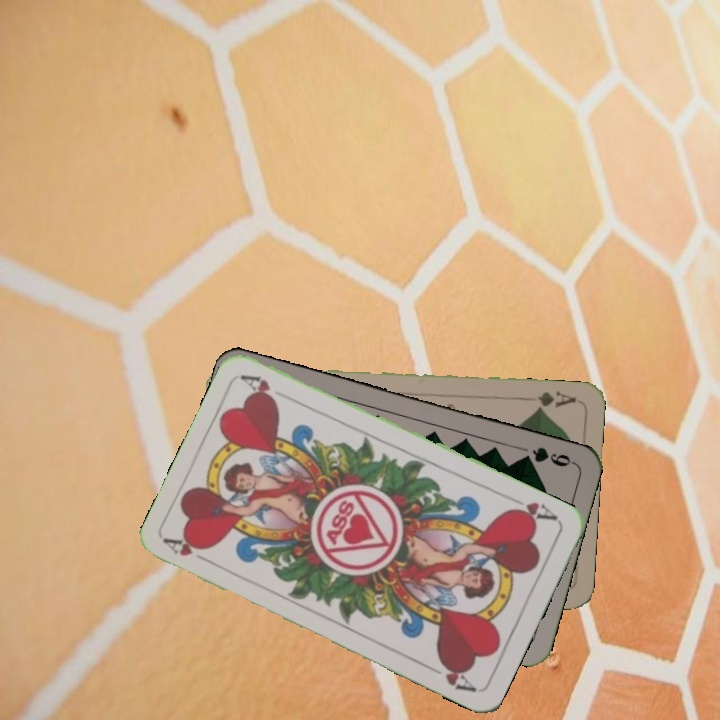G9: (516, 443, 577, 470)
GA: (520, 387, 578, 413)
HA: (161, 532, 218, 568), (504, 492, 560, 525)
